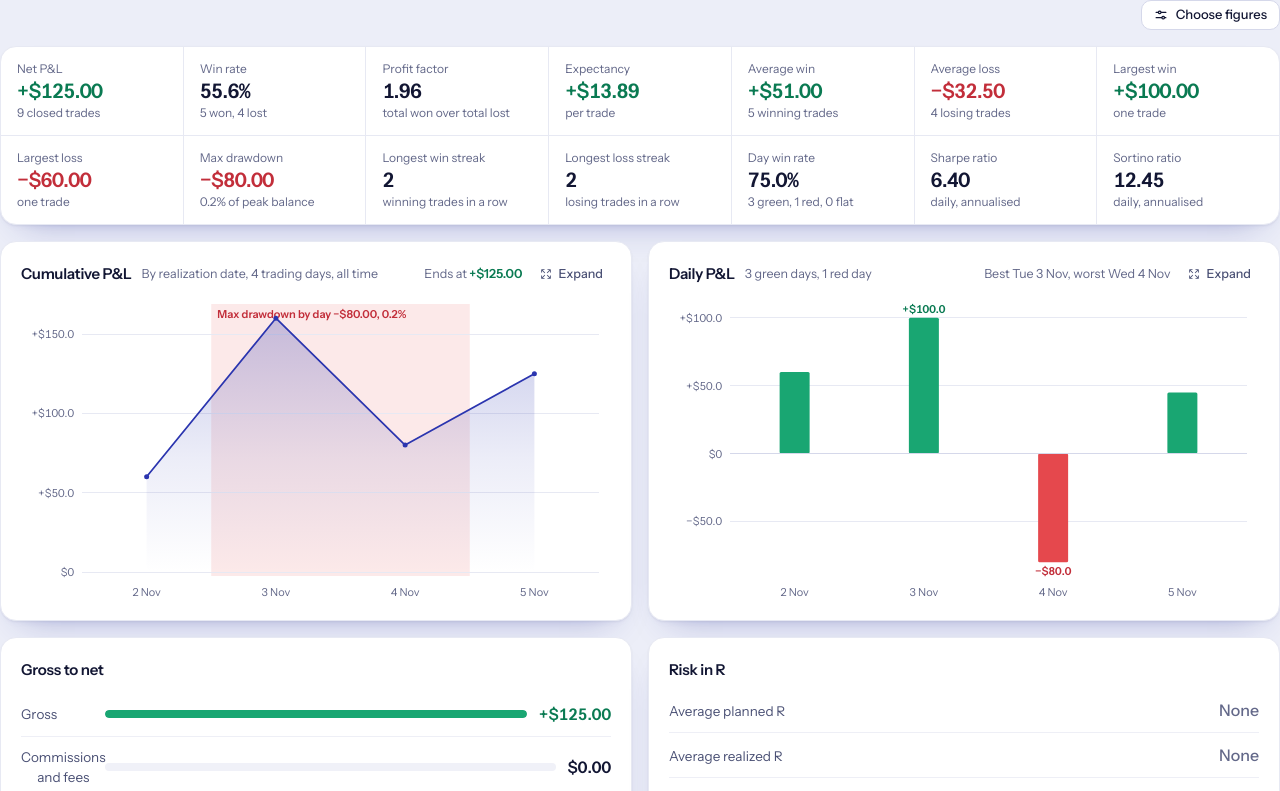
Scenario: Save hides the unchecked figures, keeps the rest, and stores the choice
What coordinates should you click on to do the following:
click the button "Choose figures"
I would click on:
 (1210, 15)
Its box is 1141,0 -> 1279,30.
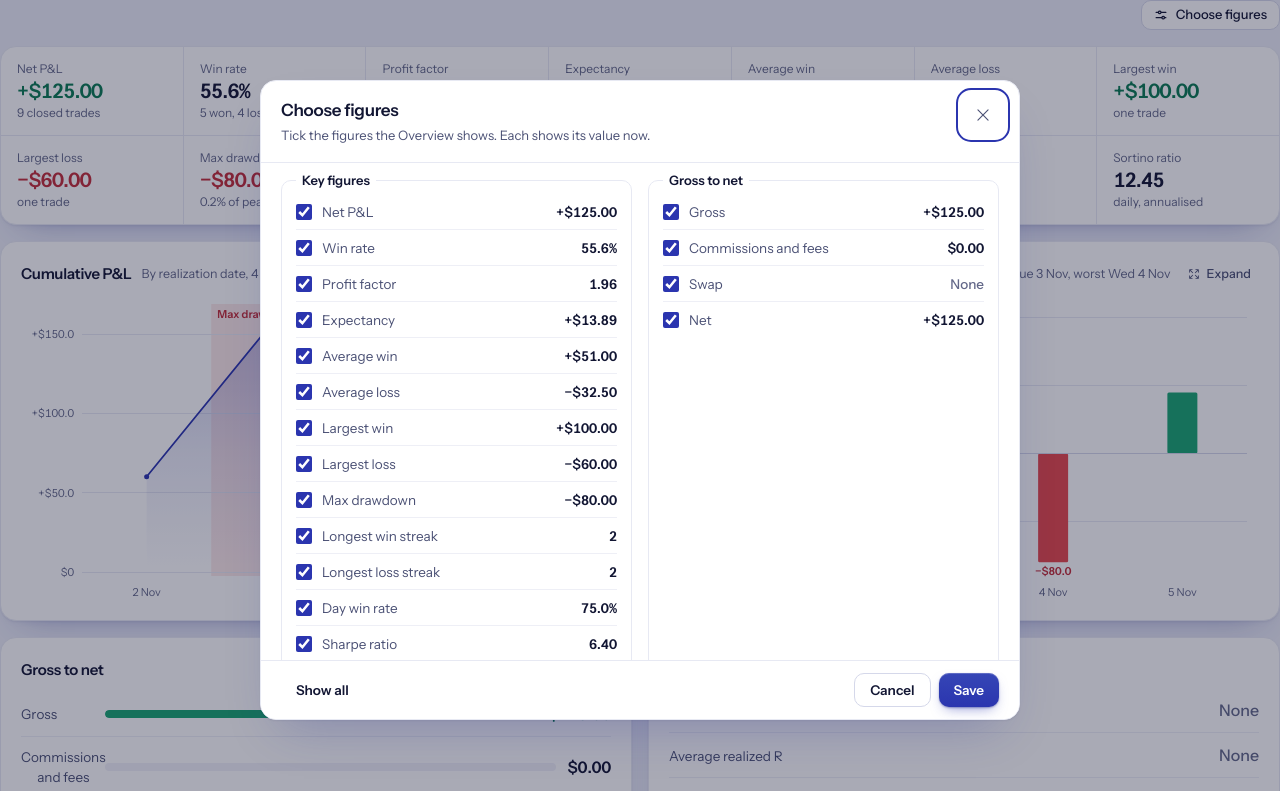
What coordinates should you click on to do the following:
click the checkbox labelled "Win rate"
I would click on:
 (304, 248)
Its box is 296,240 -> 312,256.
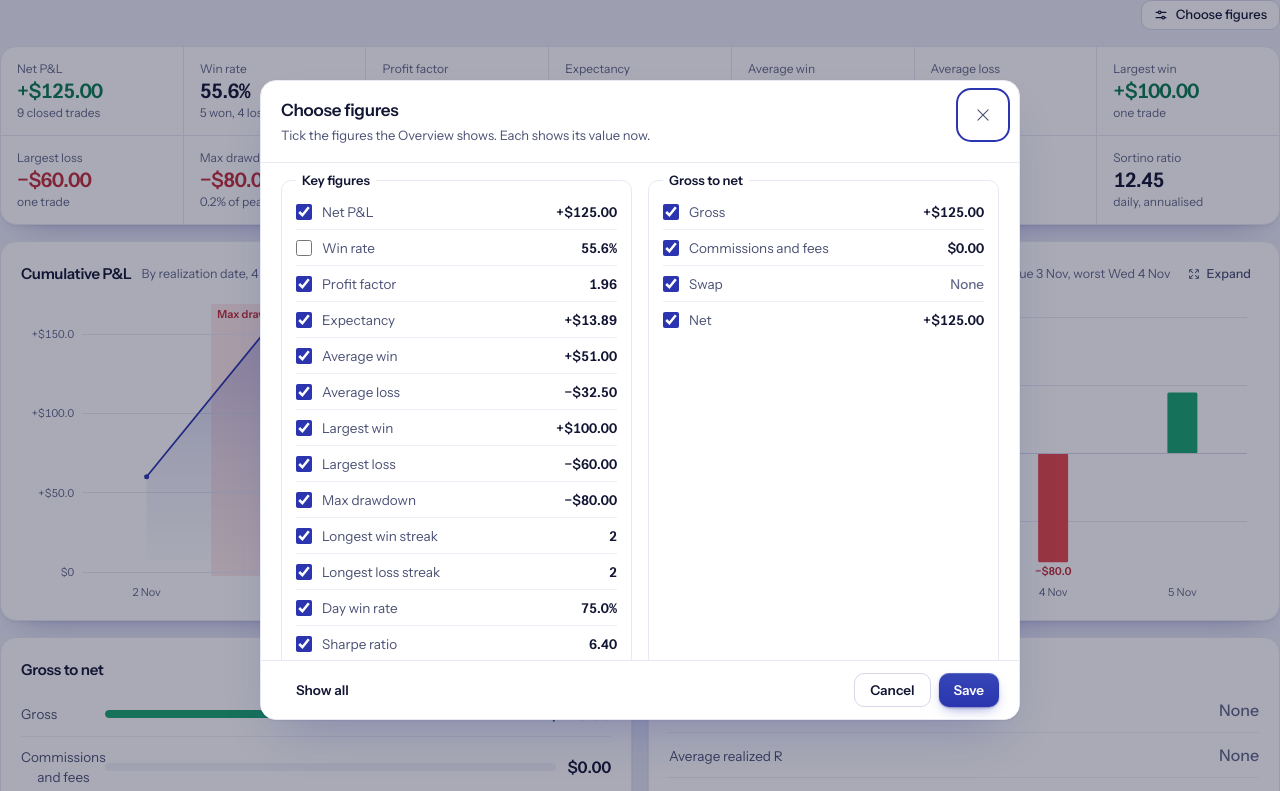
What coordinates should you click on to do the following:
click the button "Save"
I would click on:
 (969, 690)
Its box is 938,673 -> 999,707.
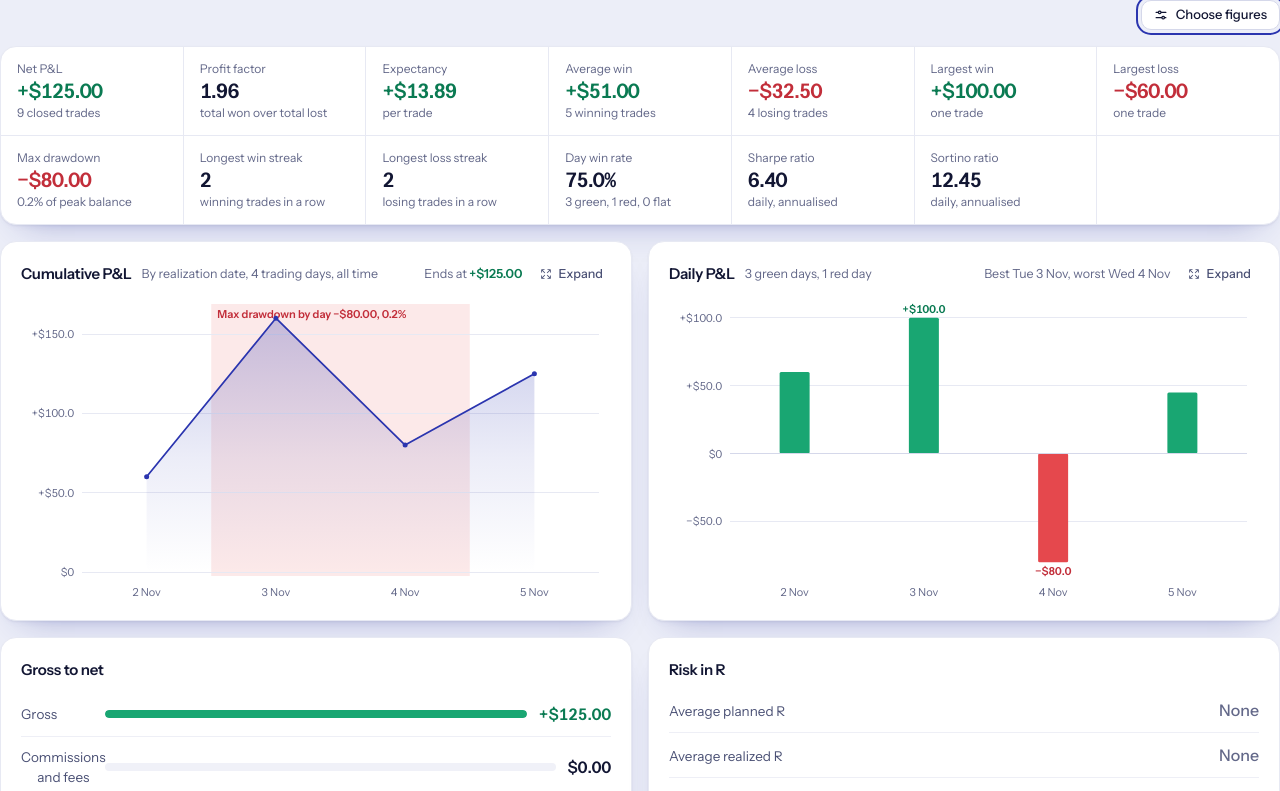
expect the element showing "Net P&L +$125.00 9 closed trades" is shown: met, box 1,47 -> 184,136
expect the dialog is gone: met
What coordinates should you click on to do the following:
click the button "Choose figures"
I would click on:
 (1210, 15)
Its box is 1141,0 -> 1279,30.
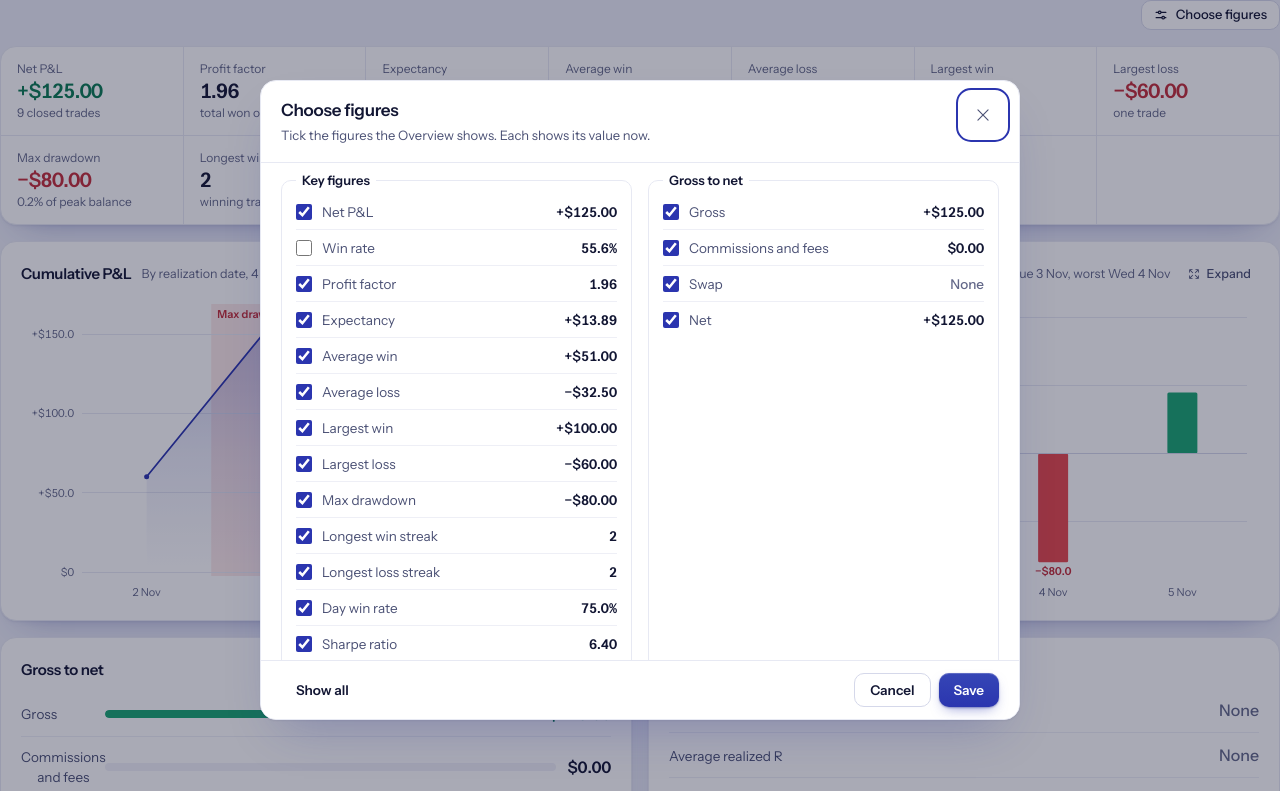
expect the checkbox labelled "Win rate" is not checked: met, box 296,240 -> 312,256
